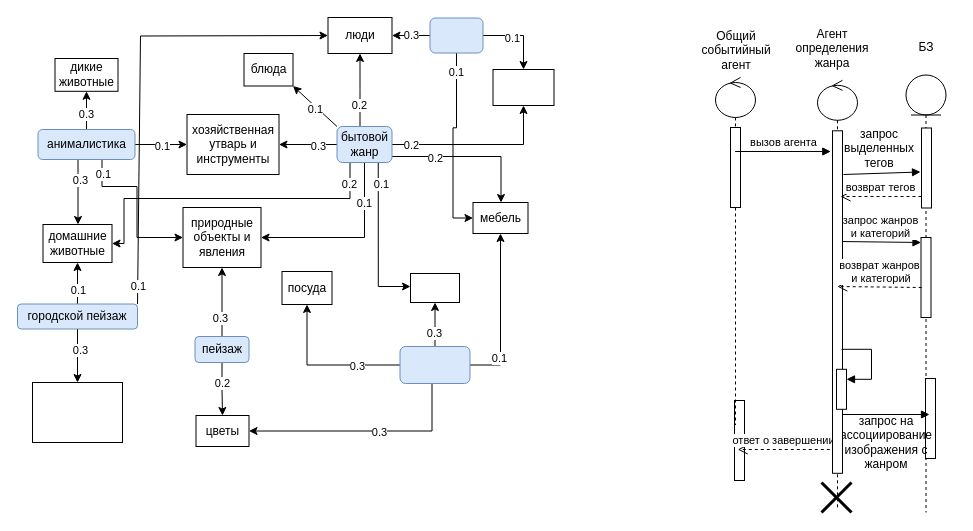
The diagram is 973 pixels wide and 531 high, and some of its shapes have lost their labels. Each missing label, with the box of its shape:
натюрморт: (399, 346, 470, 384)
объекты улицы (транспорт, здания и т.д.): (32, 382, 122, 442)
одежда: (492, 68, 554, 106)
определение жанра: (905, 74, 946, 512)
плоды: (410, 272, 460, 302)
портрет: (429, 17, 483, 53)
